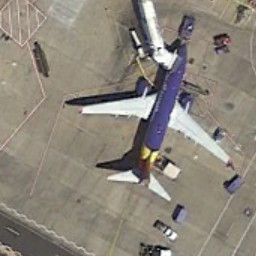Airplane: (68, 33, 238, 208)
